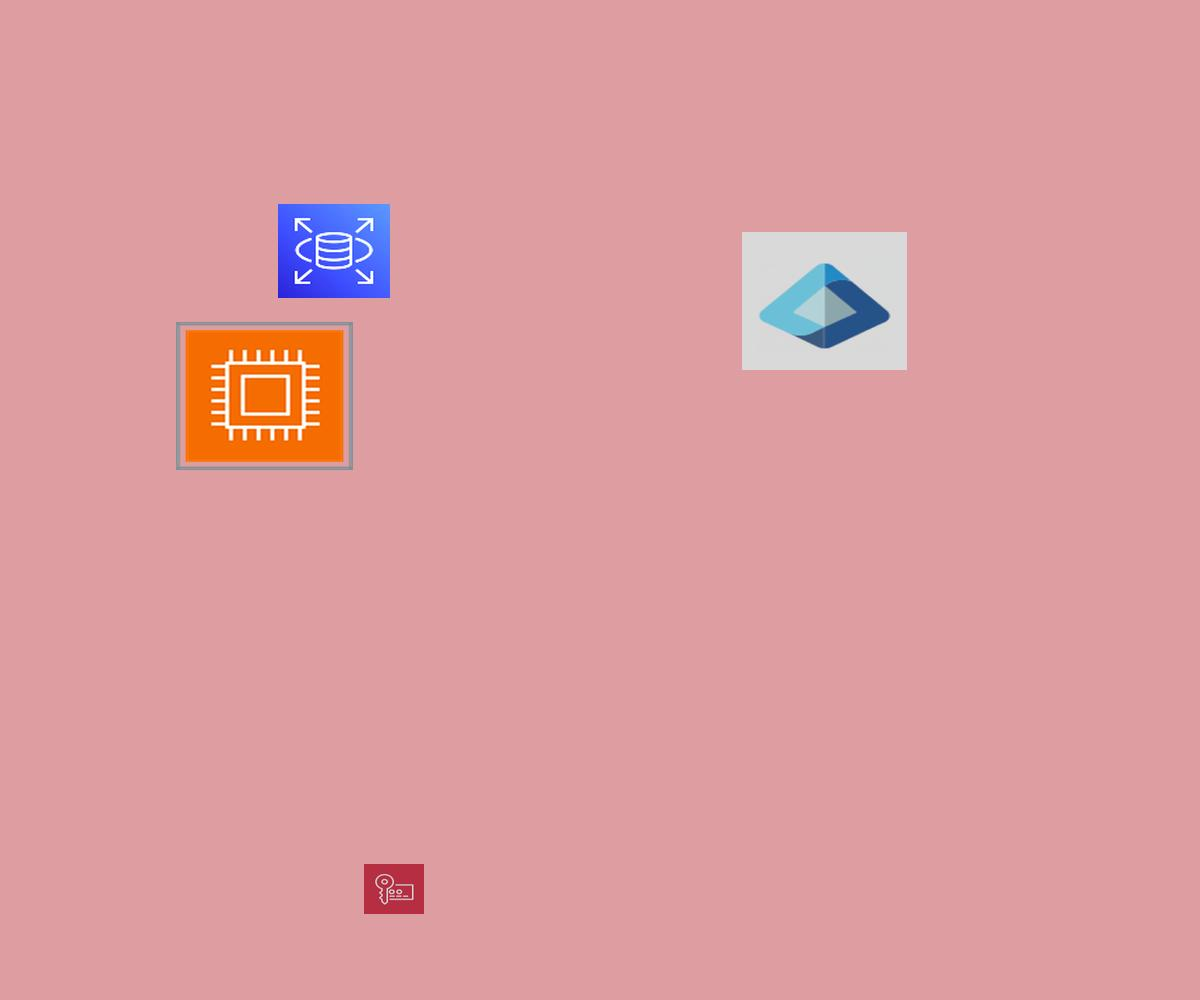AWS-Category_Compute: (176, 322, 353, 470)
AWS-Key-Management-Service: (364, 864, 424, 914)
AWS-RDS: (278, 204, 390, 298)
Azure_microsoft_entra: (742, 232, 907, 370)
